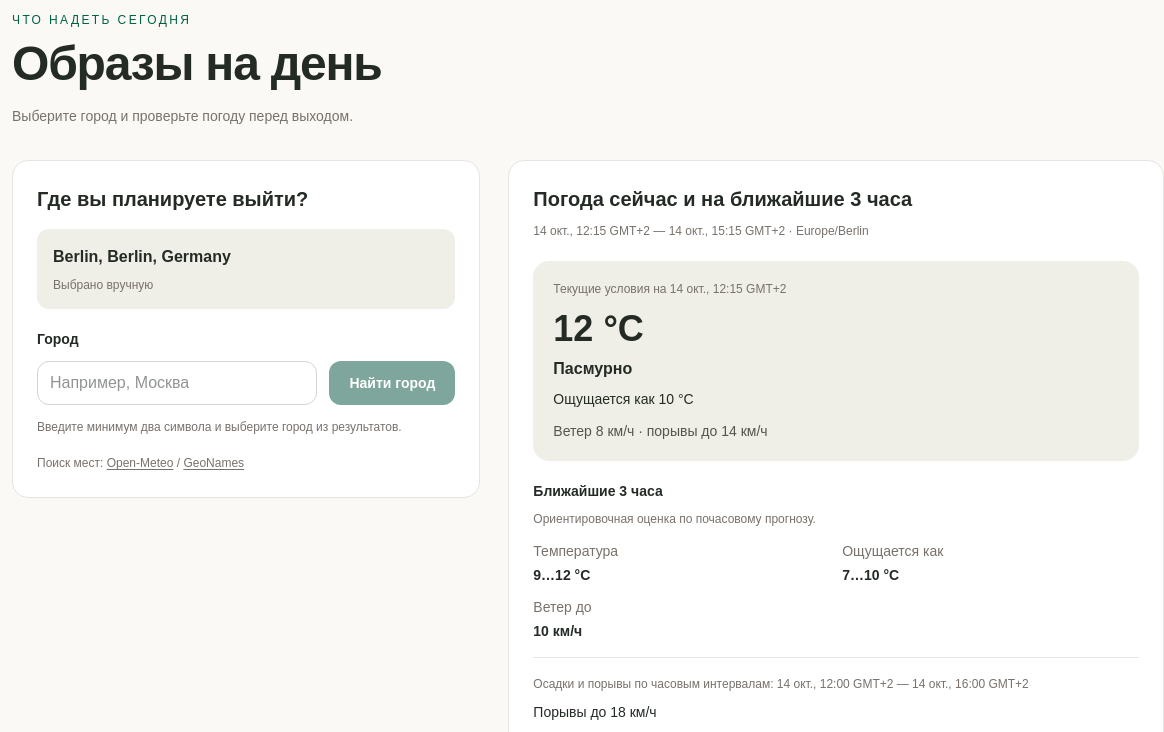
Test case: personal place and weather › reports a malformed API result safely and permits retrying the search
Type "Berlin" into the field labelled "Город" at (177, 383), box [37,361,318,405]
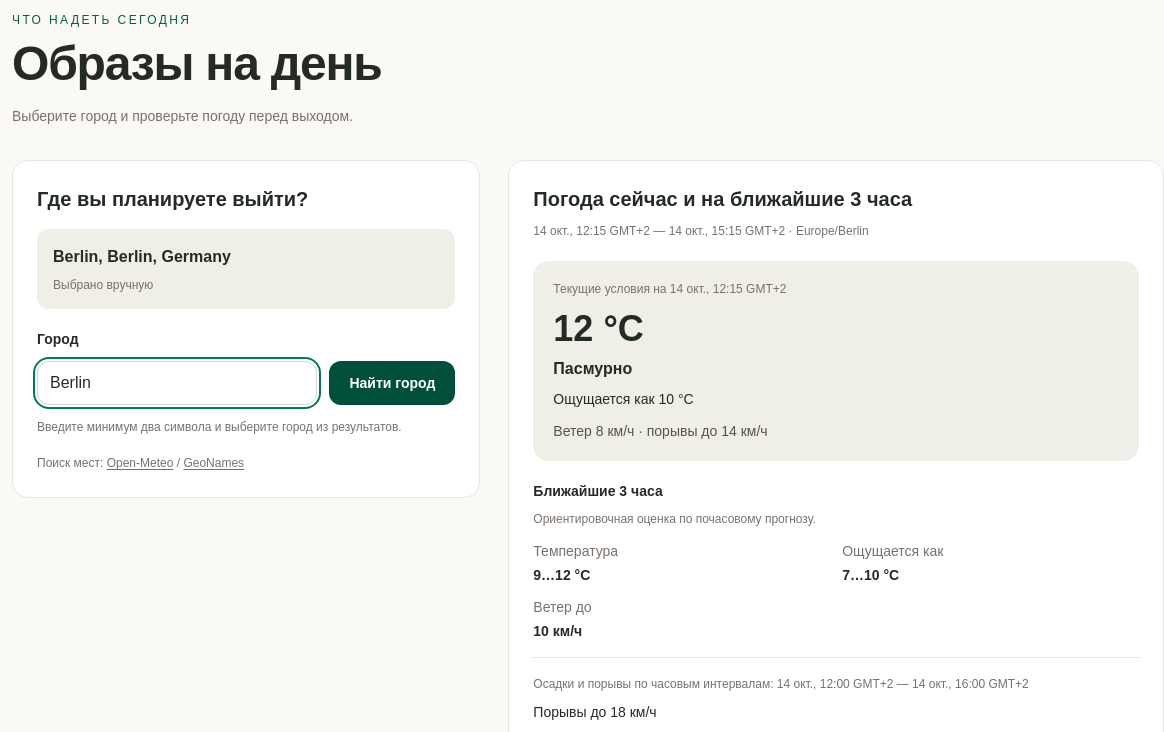
Click the button "Найти город" at (392, 383), box [330,361,455,405]
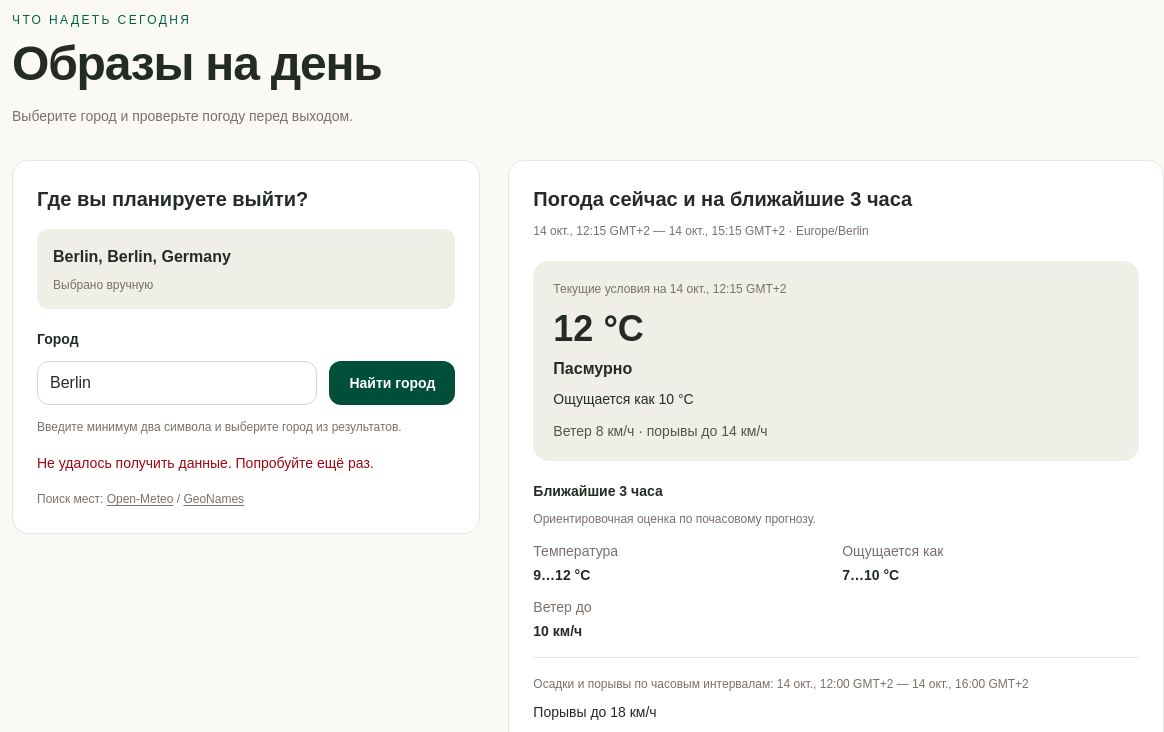
Check: the text "Не удалось получить данные. Попробуйте ещё раз." is shown, box [37,455,374,471]
